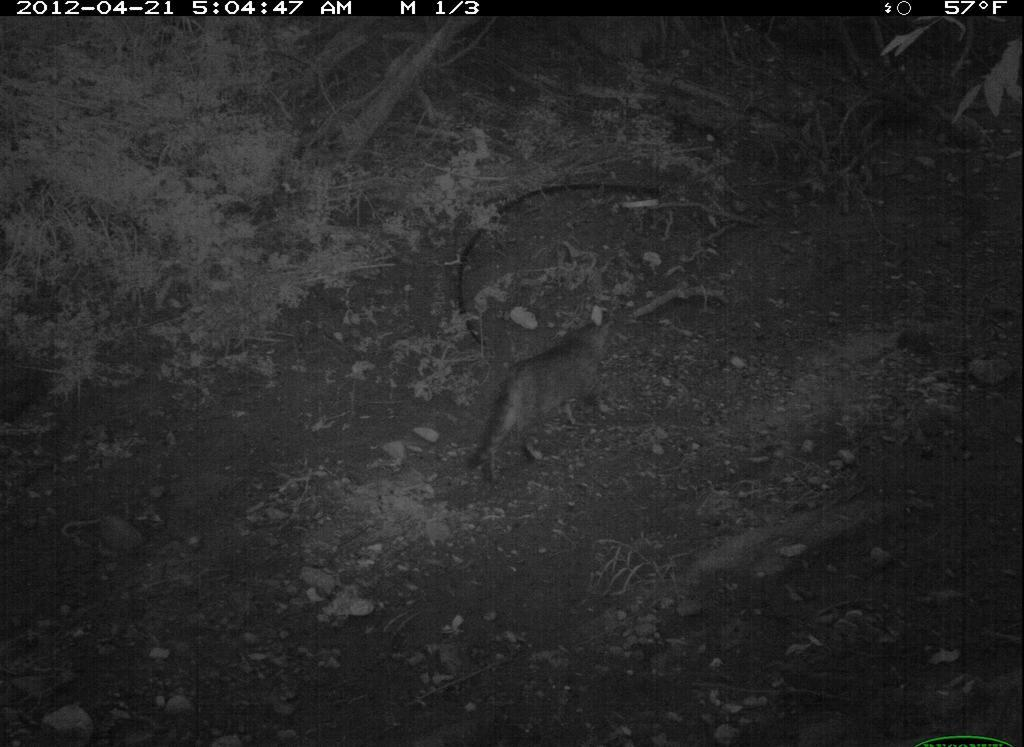cat: (455, 300, 629, 495)
